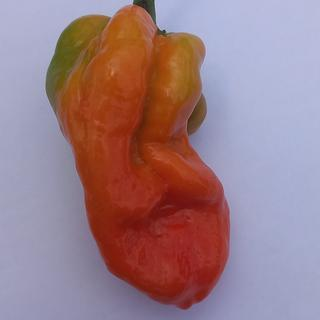Grade-A: (40, 5, 231, 310)
